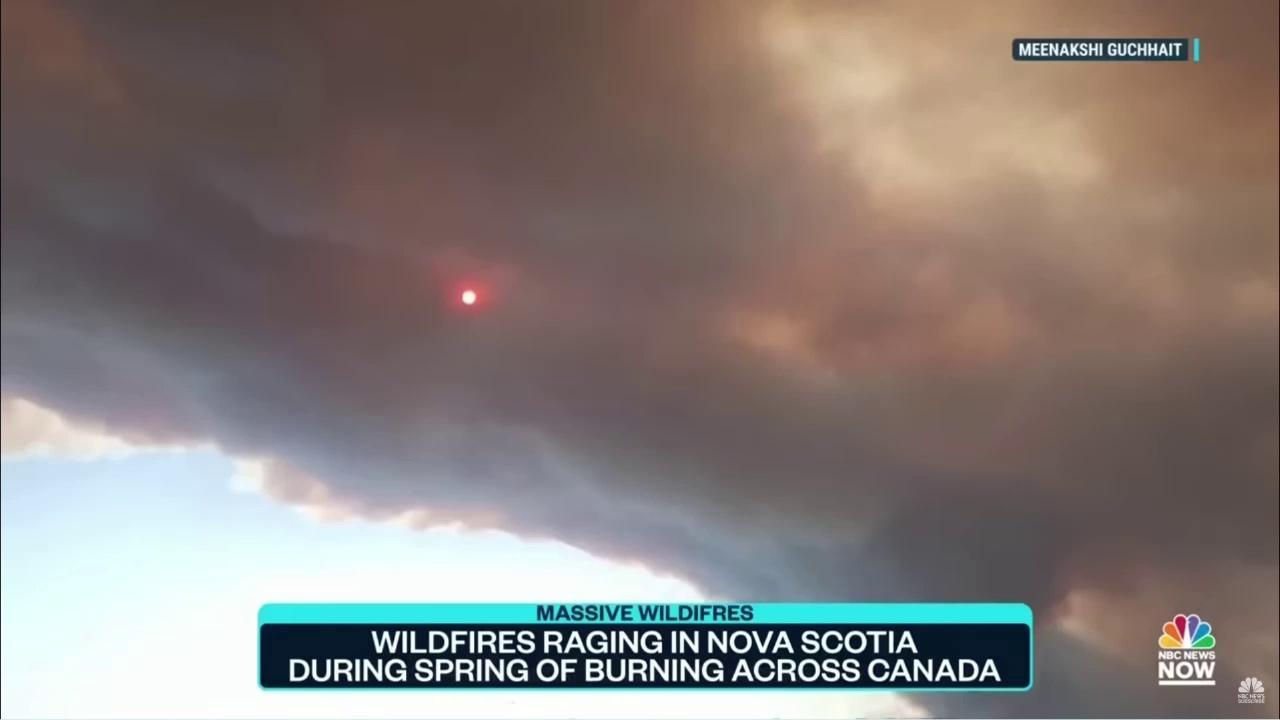smoke: (1, 0, 1280, 720)
